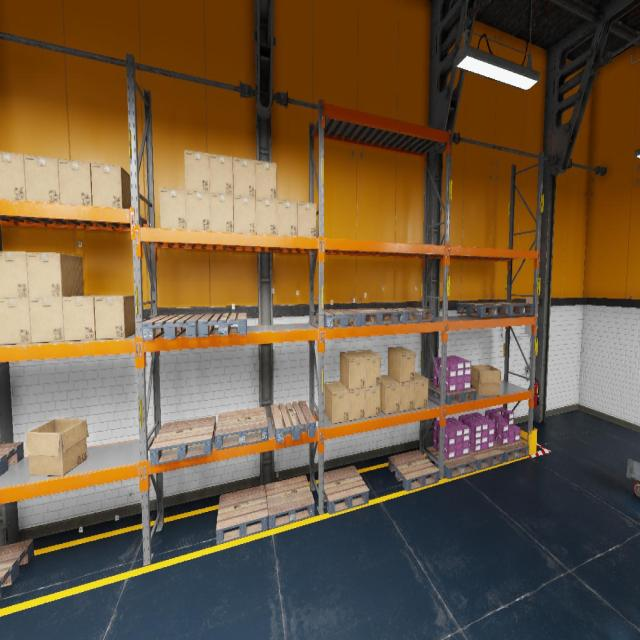box: (23, 418, 89, 476), (26, 252, 84, 297), (63, 295, 109, 341), (94, 295, 136, 340), (91, 162, 131, 208), (24, 154, 60, 203), (58, 158, 92, 206), (29, 298, 64, 343), (0, 298, 31, 345), (0, 252, 29, 298), (0, 152, 26, 200), (159, 188, 186, 230), (184, 150, 210, 193), (324, 380, 349, 424), (209, 153, 233, 197), (186, 191, 210, 231), (340, 351, 365, 389), (388, 347, 415, 382), (388, 375, 414, 411), (210, 193, 234, 232), (356, 350, 380, 388), (233, 157, 255, 197), (342, 383, 365, 421), (470, 366, 500, 395), (255, 160, 277, 199), (234, 196, 256, 233), (380, 375, 400, 414), (256, 198, 277, 235), (277, 199, 297, 236), (297, 202, 316, 237), (414, 372, 428, 409), (365, 386, 380, 418)
pallets: (150, 416, 216, 466), (216, 484, 268, 544), (266, 475, 314, 529), (215, 406, 268, 450), (324, 466, 369, 514), (388, 450, 439, 491), (0, 539, 34, 599), (271, 401, 315, 443), (426, 446, 477, 479), (141, 314, 204, 340), (198, 313, 247, 337), (428, 382, 476, 404), (316, 309, 362, 328), (348, 308, 398, 325), (0, 441, 24, 476), (470, 446, 504, 470), (494, 440, 529, 462), (388, 308, 436, 324), (457, 303, 509, 316), (484, 302, 534, 315)
